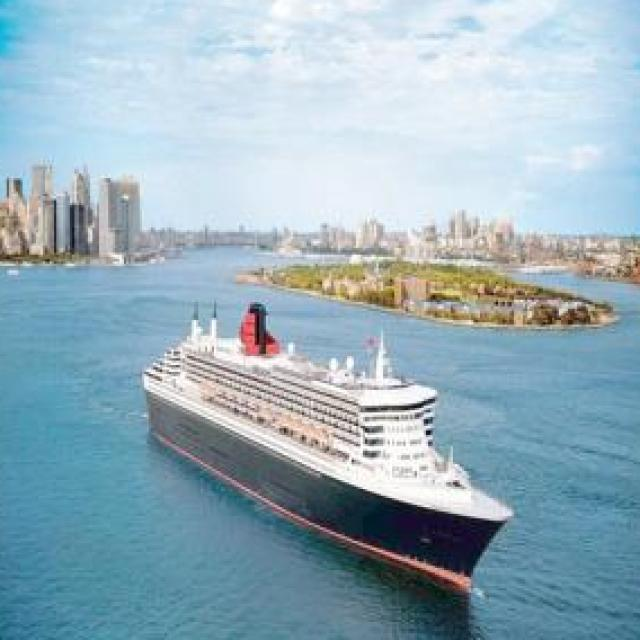passenger ship: (144, 298, 506, 591)
